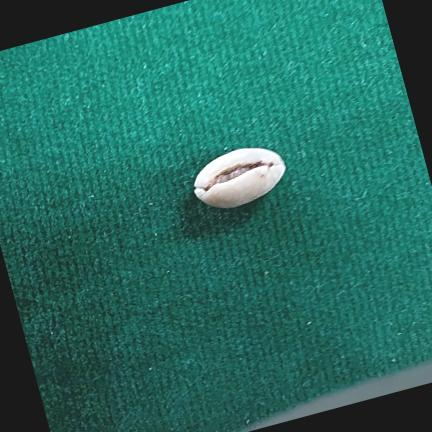immature: (193, 147, 285, 208)
